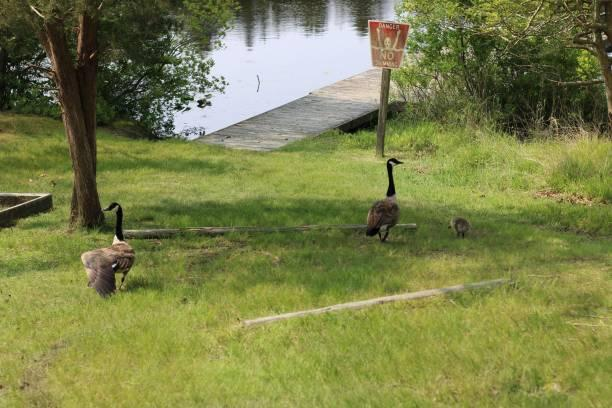Canadian-Goose: (83, 202, 136, 292), (360, 156, 406, 238), (444, 214, 471, 239)
